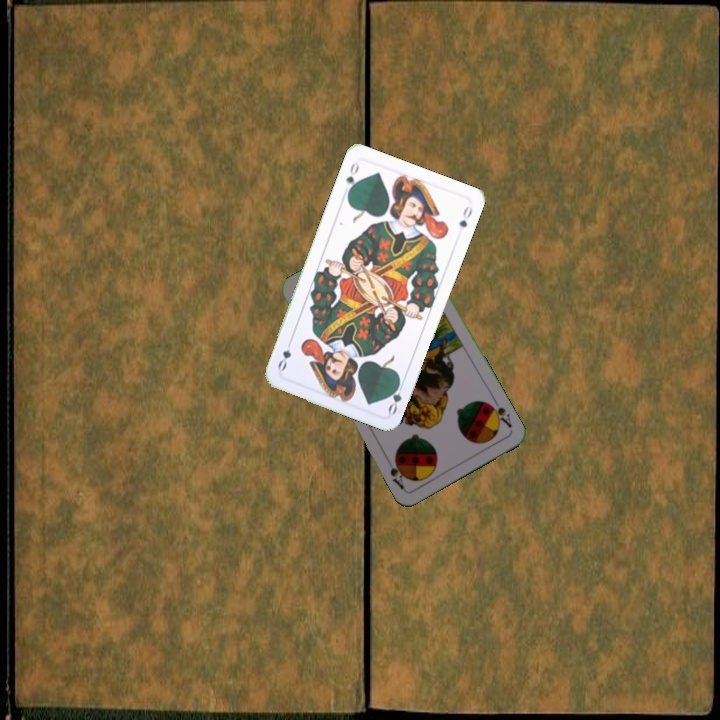GO: (384, 376, 407, 417), (342, 159, 362, 198)
SA: (484, 394, 515, 431)
